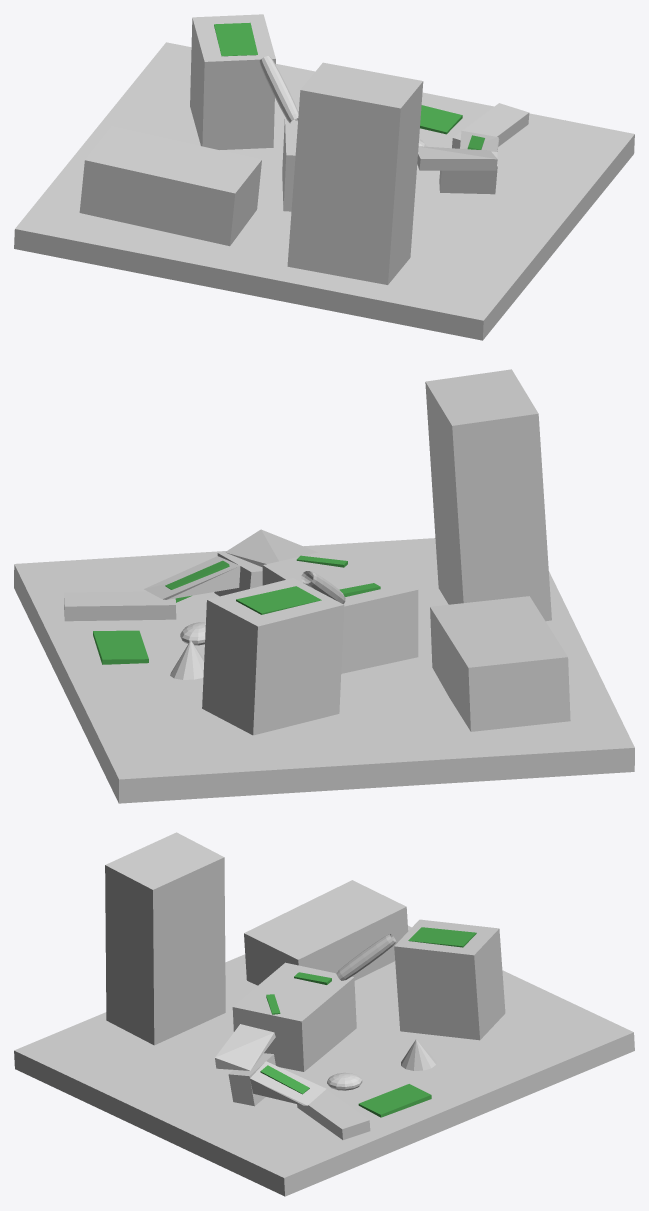
3 views of the same model, one above another, from view 1: azimuth 30°, elevation 25°; view 2: azimuth 150°, elevation 25°; view 3: azimuth 270°, elevation 25° (orthographic). The views are drawn at different scales.
Parts seen in each view (by area): view 1: mesh_490036423, mesh_1908001701, mesh_460636267, mesh_400012798, mesh_1076034347, mesh_412140144, mesh_36634456, mesh_1156469048, mesh_487724920, mesh_1050326354, mesh_705493588, mesh_765484196; view 2: mesh_490036423, mesh_1908001701, mesh_400012798, mesh_460636267, mesh_487724920, mesh_412140144, mesh_765484196, mesh_1076034347, mesh_705493588, mesh_1156469048, mesh_36634456, mesh_1889611157 (+1 smaller); view 3: mesh_490036423, mesh_1908001701, mesh_400012798, mesh_460636267, mesh_487724920, mesh_412140144, mesh_1076034347, mesh_765484196, mesh_705493588, mesh_36634456, mesh_1050326354, mesh_1156469048 (+2 smaller).
Boxes of the visible parts, box(x1,y1,x2,y2) form: mesh_490036423: box(14, 42, 634, 340); mesh_1908001701: box(287, 62, 423, 284); mesh_460636267: box(79, 126, 261, 246); mesh_400012798: box(190, 14, 275, 149); mesh_1076034347: box(417, 146, 497, 170); mesh_412140144: box(452, 103, 529, 148); mesh_36634456: box(439, 151, 497, 194); mesh_1156469048: box(214, 22, 257, 56); mesh_487724920: box(282, 117, 297, 211); mesh_1050326354: box(259, 56, 298, 123); mesh_705493588: box(420, 105, 462, 134); mesh_765484196: box(460, 130, 499, 151); mesh_490036423: box(14, 538, 634, 803); mesh_1908001701: box(425, 369, 551, 621); mesh_400012798: box(202, 578, 344, 735); mesh_460636267: box(430, 596, 570, 731); mesh_487724920: box(262, 545, 418, 673); mesh_412140144: box(64, 591, 176, 621); mesh_765484196: box(144, 556, 240, 599); mesh_1076034347: box(225, 529, 317, 567); mesh_705493588: box(93, 630, 148, 664); mesh_1156469048: box(236, 586, 321, 614); mesh_36634456: box(214, 552, 262, 596); mesh_1889611157: box(170, 640, 204, 679); mesh_490036423: box(14, 925, 634, 1196); mesh_1908001701: box(105, 832, 225, 1045); mesh_400012798: box(394, 919, 505, 1040); mesh_460636267: box(244, 880, 408, 985); mesh_487724920: box(232, 962, 356, 1071); mesh_412140144: box(297, 1089, 370, 1139); mesh_1076034347: box(215, 1024, 275, 1070); mesh_765484196: box(250, 1061, 326, 1105); mesh_705493588: box(358, 1084, 431, 1117); mesh_36634456: box(228, 1053, 275, 1106); mesh_1050326354: box(336, 934, 396, 980); mesh_1156469048: box(408, 927, 476, 947).
Size of the model in its own units: 298 by 103 by 300.
